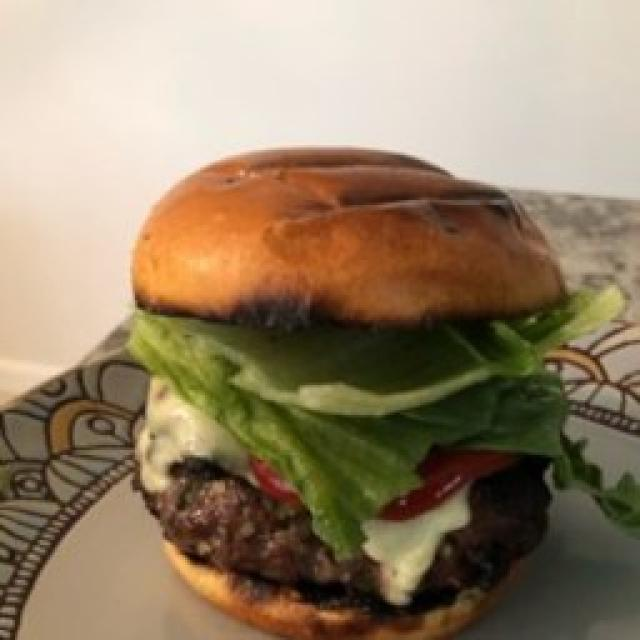burger: (128, 150, 568, 640)
